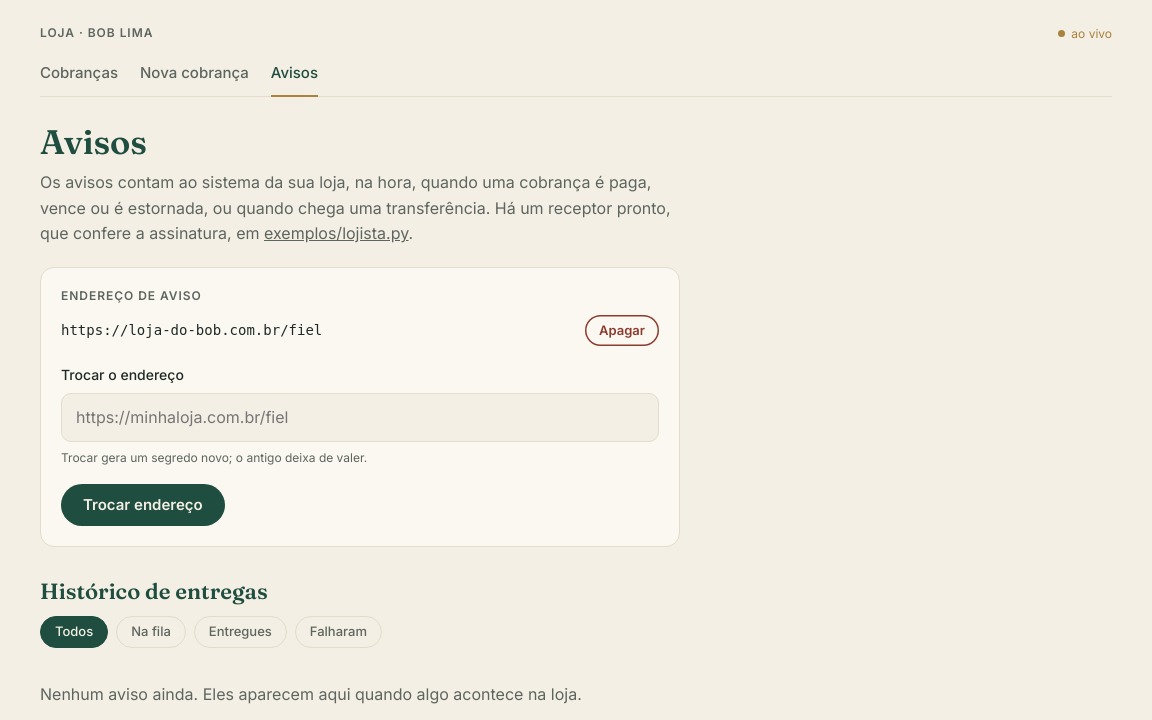
Avisos › apaga o endereço depois de confirmar
The width and height of the screenshot is (1152, 720).
Expected: the text "https://loja-do-bob.com.br/fiel" is shown, x1=61 y1=320 x2=322 y2=341
What coordinates should you click on to do the following:
click the button "Apagar"
I would click on:
 (622, 331)
Its box is x1=585 y1=315 x2=659 y2=346.
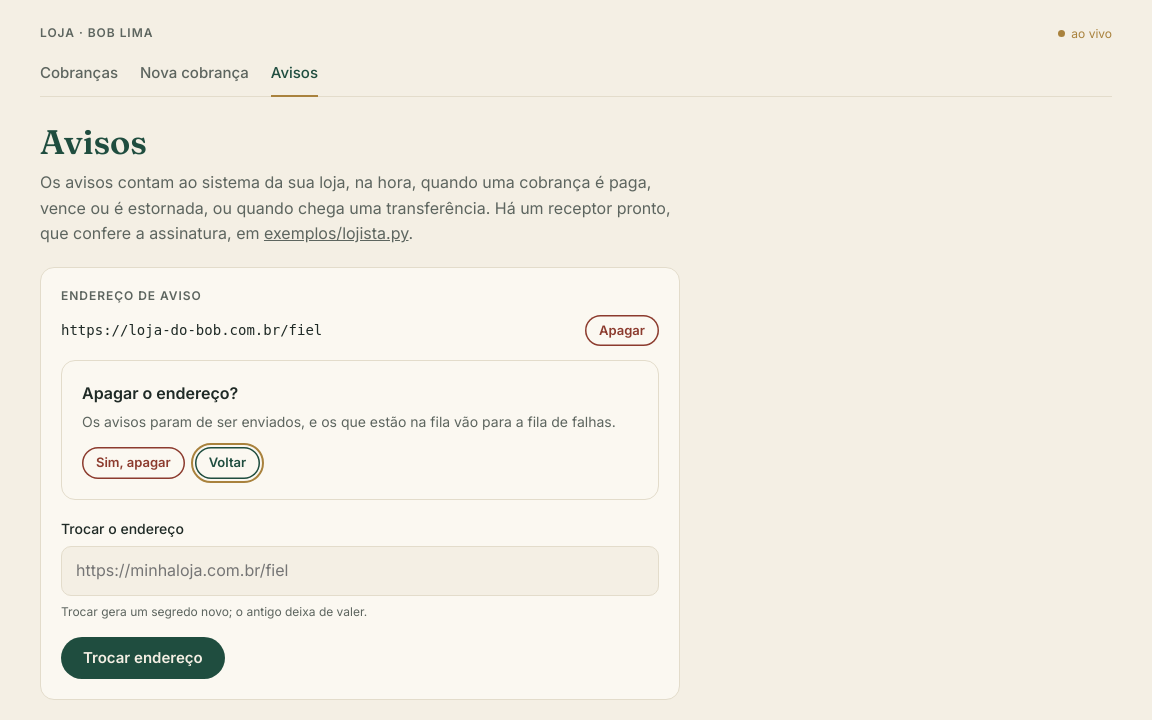
Expected: the dialog "Apagar o endereço?" is shown, x1=61 y1=360 x2=659 y2=500
What coordinates should you click on to do the following:
click the button "Sim, apagar"
I would click on:
 (133, 463)
Its box is x1=82 y1=447 x2=185 y2=479.
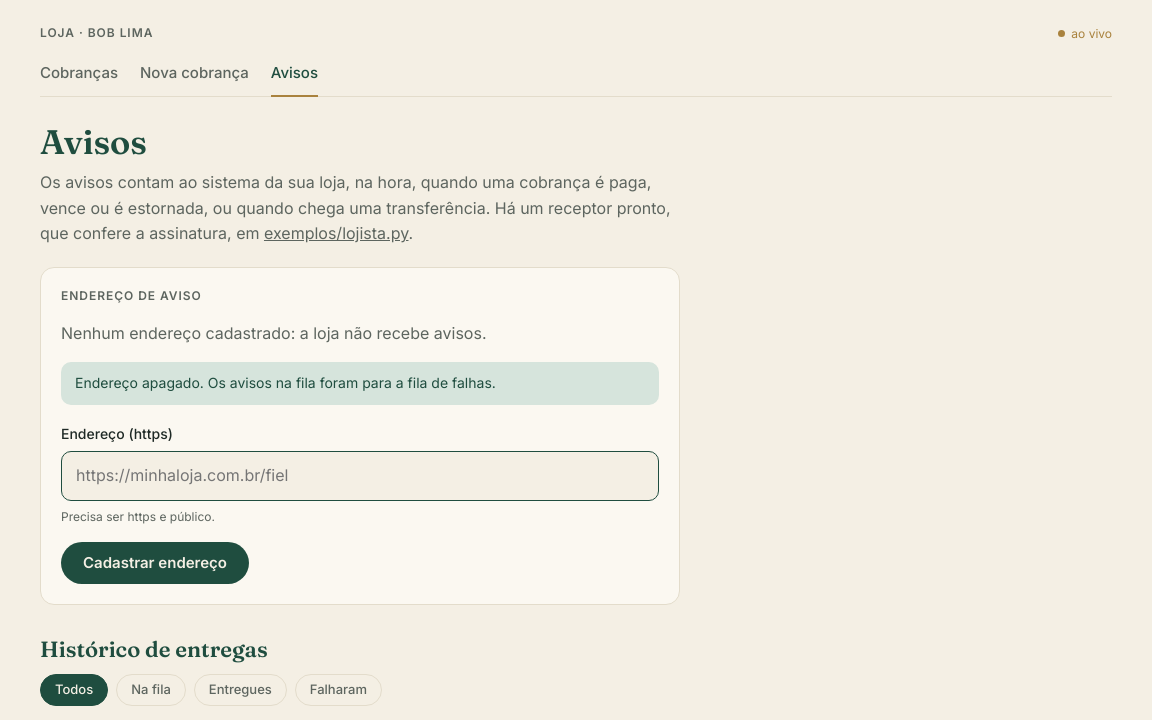
Expected: the text "Endereço apagado. Os avisos na fila foram para a fila de falhas." is shown, x1=61 y1=362 x2=659 y2=405
Expected: the text "Nenhum endereço cadastrado: a loja não recebe avisos." is shown, x1=61 y1=323 x2=486 y2=343
